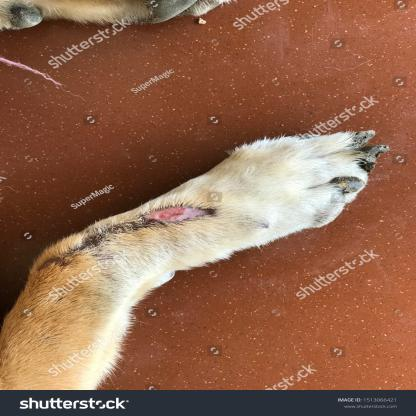dog: (13, 122, 340, 334)
injured: (75, 195, 246, 251)
